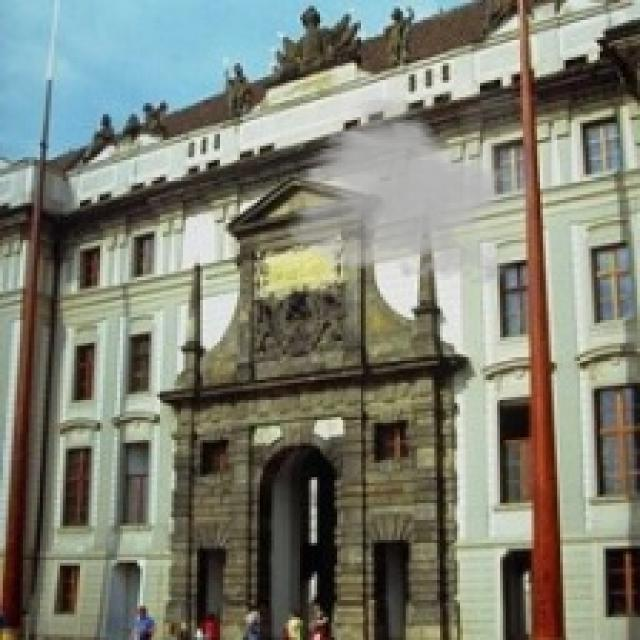Smoke: (283, 91, 532, 292)
